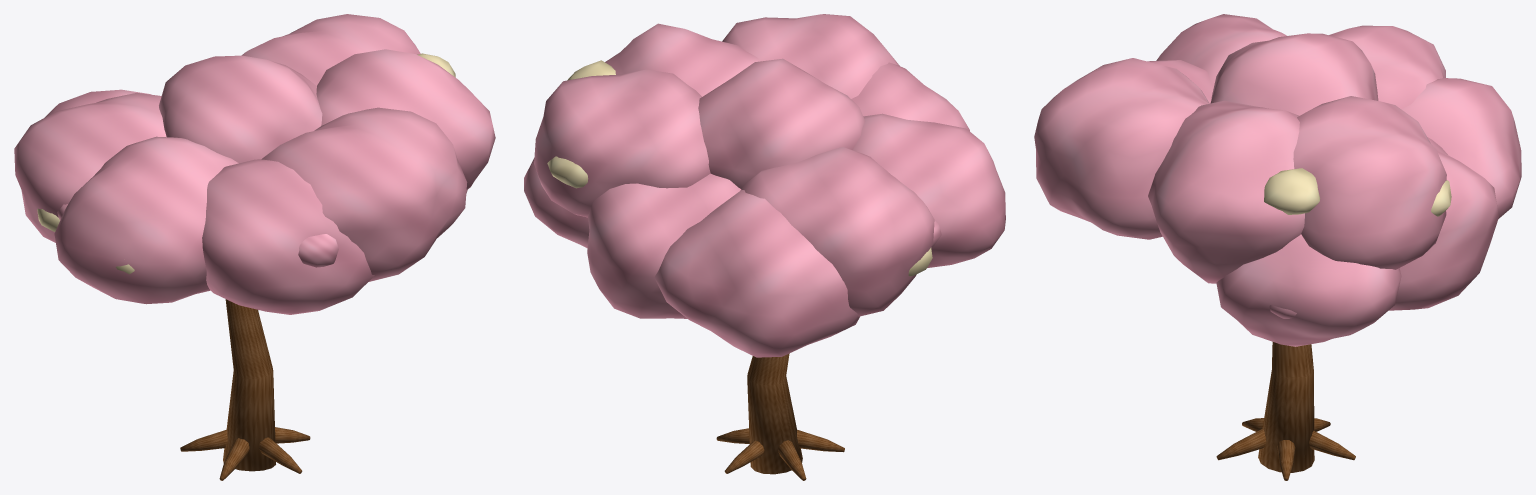
Rendered from orchard_blossom.glb.
3 views of the same model, side by side, from view 1: azimuth 30°, elevation 25°; view 2: azimuth 150°, elevation 25°; view 3: azimuth 270°, elevation 25° (orthographic). The views are drawn at different scales.
Parts seen in each view (by area): view 1: orchard_blossom.002; view 2: orchard_blossom.002; view 3: orchard_blossom.002.
Boxes of the visible parts, bbox=[...] form: orchard_blossom.002: bbox=[14, 14, 495, 480]; orchard_blossom.002: bbox=[524, 14, 1005, 480]; orchard_blossom.002: bbox=[1034, 14, 1521, 480].
Bounding box in the file's own units: 8.04 × 7.09 × 7.41.
1 material, 1 textured.
